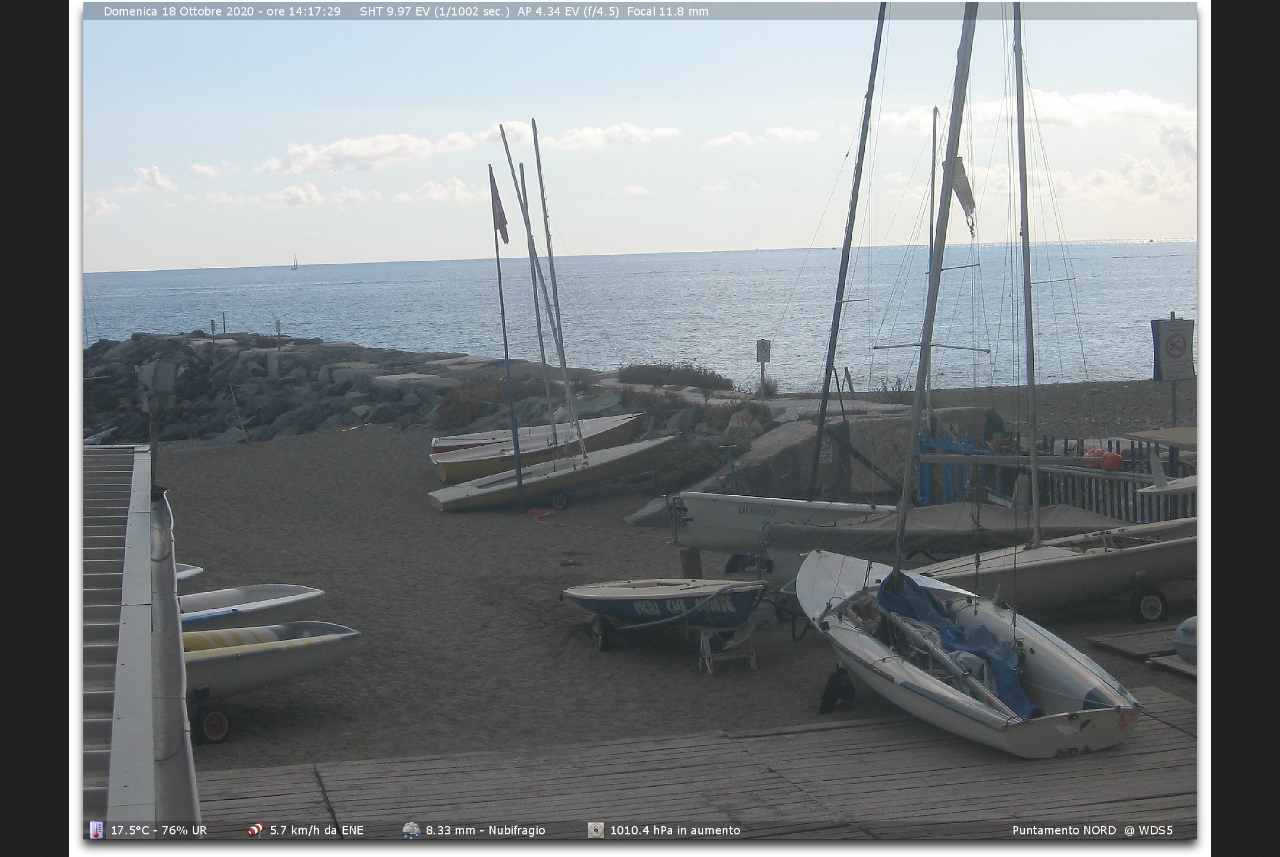no: (487, 168, 511, 244)
